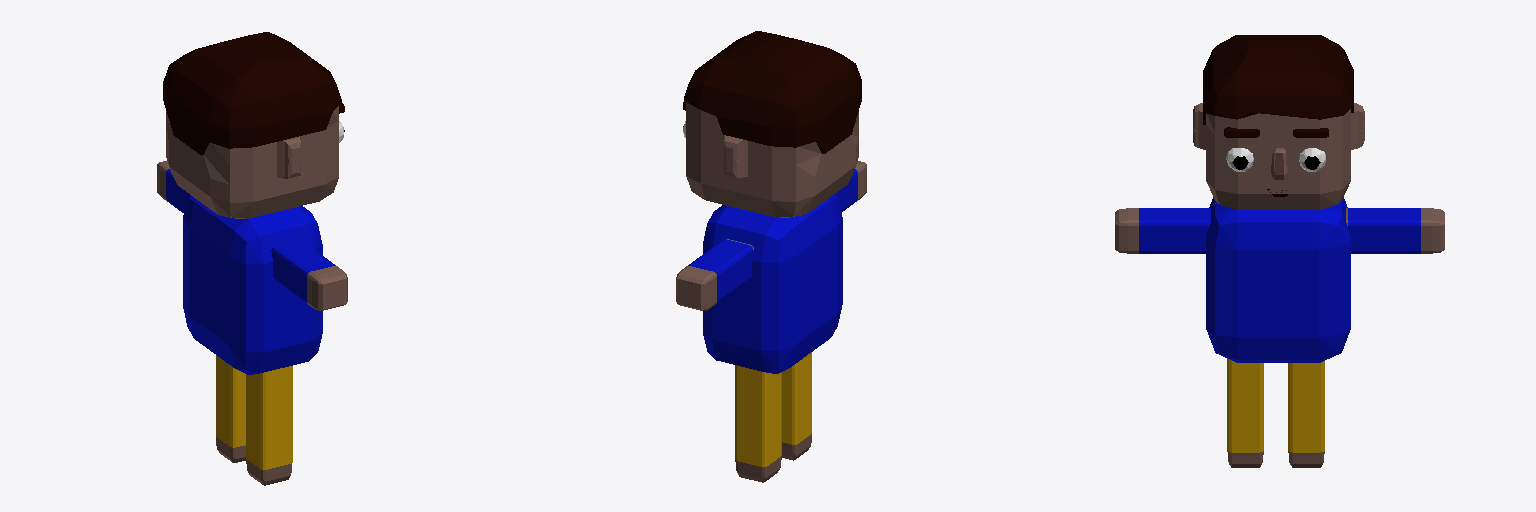
Rendered from test-npc.obj.
3 views of the same model, side by side, from view 1: azimuth 30°, elevation 25°; view 2: azimuth 150°, elevation 25°; view 3: azimuth 270°, elevation 25° (orthographic).
Visible parts, largest first — view 1: eblan; view 2: eblan; view 3: eblan.
Boxes of the visible parts, <box> form: eblan: <box>157,32,347,485</box>; eblan: <box>676,31,866,482</box>; eblan: <box>1115,35,1444,467</box>.
Bounding box in the file's own units: 2.21 × 6.33 × 4.55.